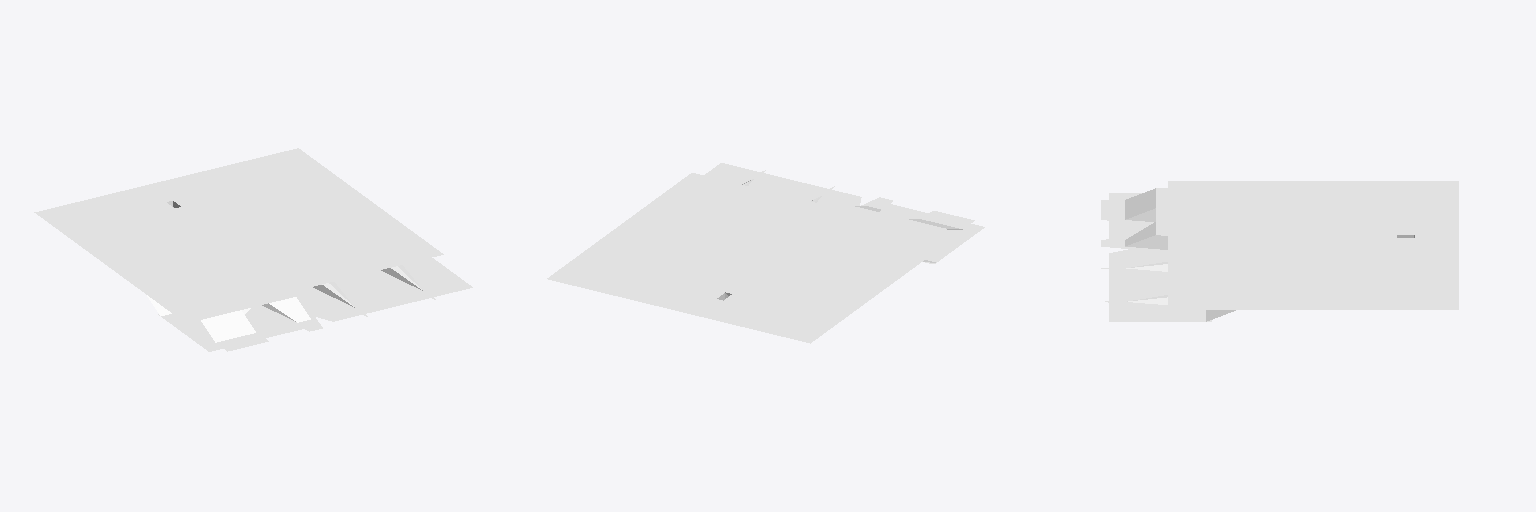
Rendered from MainPlayground.obj.
3 renders of one model, left to right at view 1: azimuth 30°, elevation 25°; view 2: azimuth 150°, elevation 25°; view 3: azimuth 270°, elevation 25°, orthographic.
Parts seen in each view (by area): view 1: MainPlayground; view 2: MainPlayground; view 3: MainPlayground.
Boxes of the visible parts, x1,y1,x2,y2 form: MainPlayground: [34, 148, 472, 351]; MainPlayground: [547, 163, 984, 343]; MainPlayground: [1101, 181, 1458, 321].
Size of the model in its own units: 52.88 by 3.89 by 62.08.